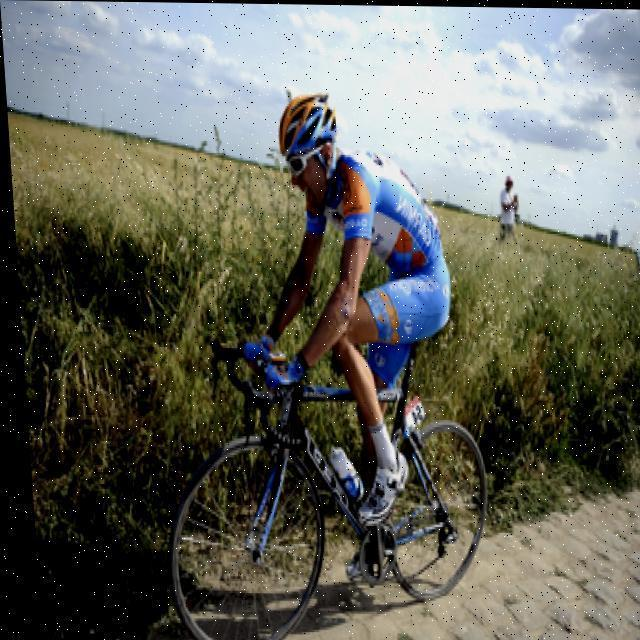Helmet: (272, 86, 344, 214)
